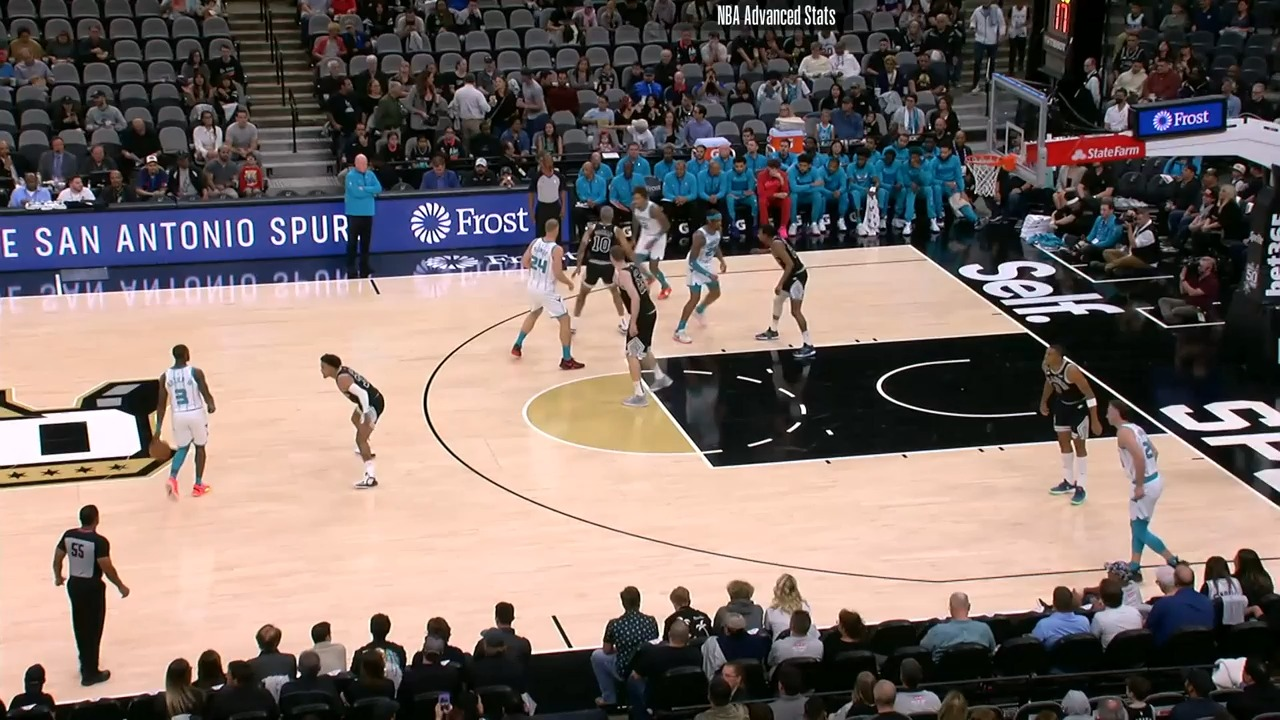net: (967, 149, 1023, 196)
player: (1102, 392, 1180, 582), (599, 218, 670, 409), (1039, 339, 1108, 508), (513, 223, 587, 375), (151, 339, 217, 502), (313, 351, 388, 494), (566, 200, 632, 340), (750, 221, 814, 354), (670, 214, 729, 349), (621, 186, 675, 303)
referee: (45, 502, 126, 691), (520, 149, 572, 252)
